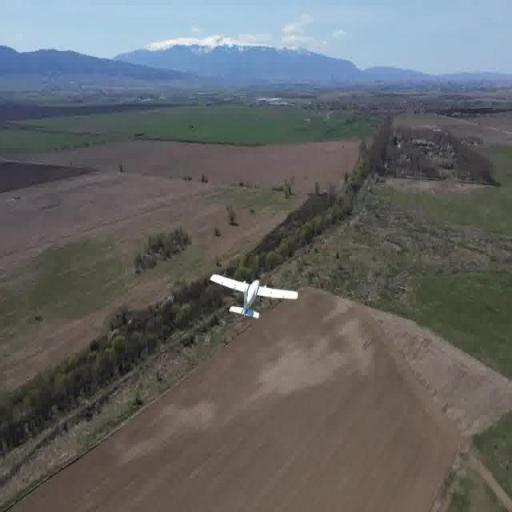uav: (208, 269, 301, 325)
